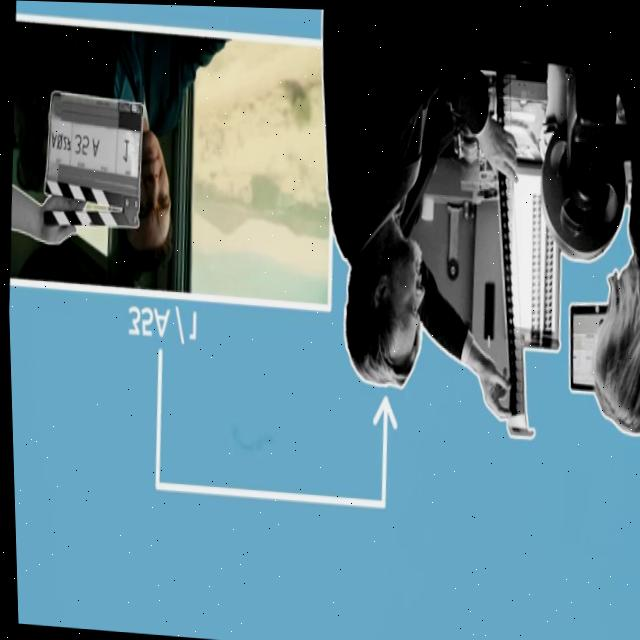Clapperboard: (39, 88, 151, 237)
